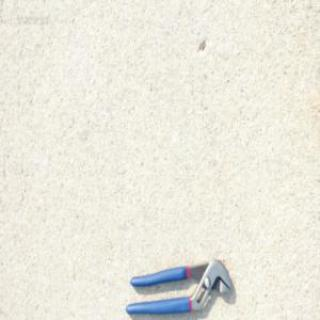Pliertrack_idkeyframe: (125, 257, 232, 310)
